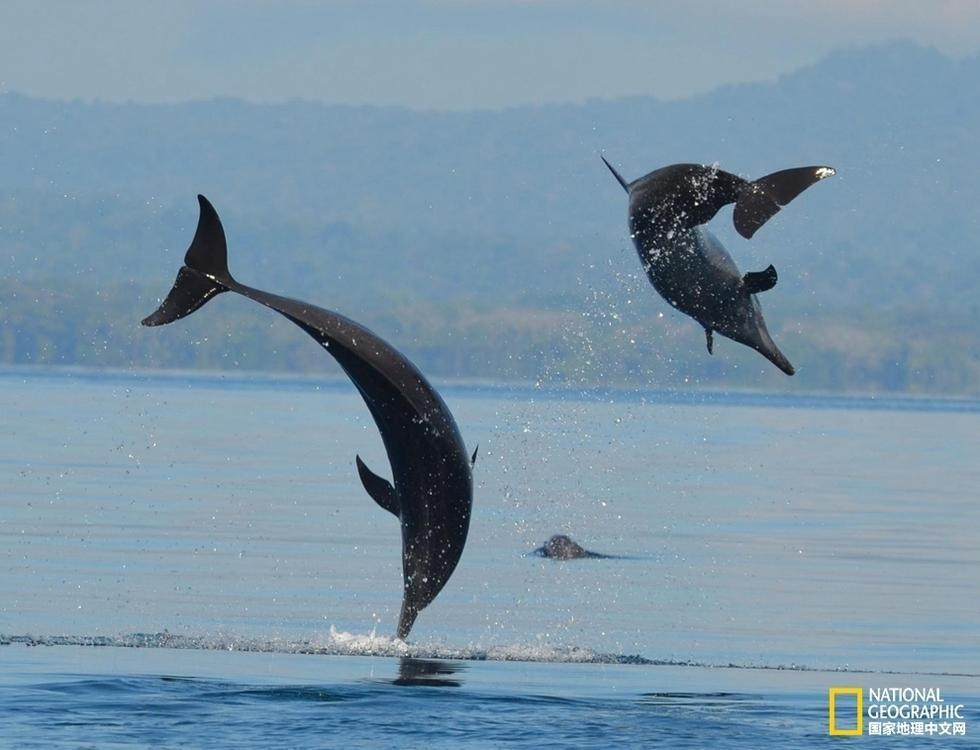fish: (129, 185, 483, 649), (599, 149, 835, 375)
